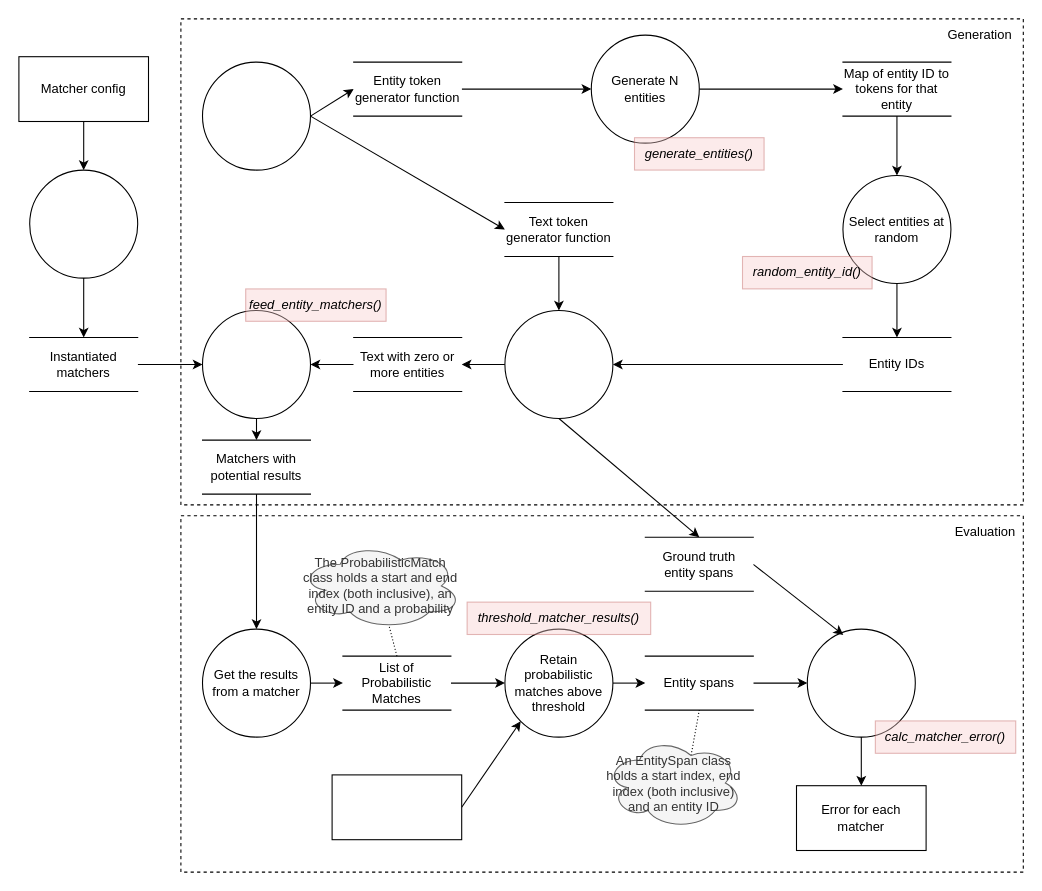
Image size: 1042x891. Some labels were removed from this diagram. Each missing label, with the centre of its shape:
Build text and entity generator functions: (x=255, y=115)
Calculate error: (x=860, y=682)
Embed entities in surrounding text: (x=558, y=363)
Feed text token-by-token into the matchers: (x=255, y=363)
Instantiate matchers from config: (x=83, y=223)
Threshold (value in the range [0,1]): (x=396, y=807)
